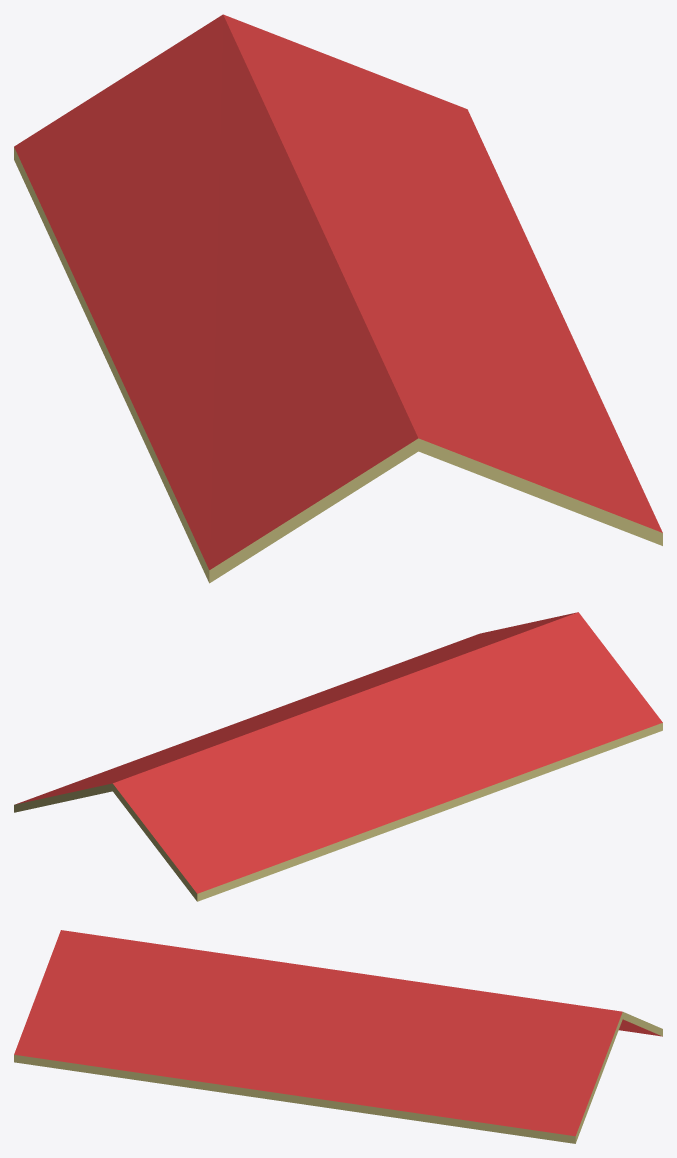
3 renders of one model, top to bottom at view 1: azimuth 30°, elevation 25°; view 2: azimuth 150°, elevation 25°; view 3: azimuth 270°, elevation 25°, orthographic. The views are drawn at different scales.
Visible parts, largest first — view 1: group_3, group_4; view 2: group_3, group_4; view 3: group_3, group_4.
Part boxes in pixels (x1=…): group_3: x1=14, y1=14, x2=662, y2=569; group_4: x1=14, y1=147, x2=662, y2=583; group_3: x1=15, y1=612, x2=662, y2=893; group_4: x1=14, y1=723, x2=662, y2=901; group_3: x1=14, y1=930, x2=622, y2=1136; group_4: x1=14, y1=1012, x2=662, y2=1143.
Size of the model in its own units: 5.29 by 7.68 by 0.973.
